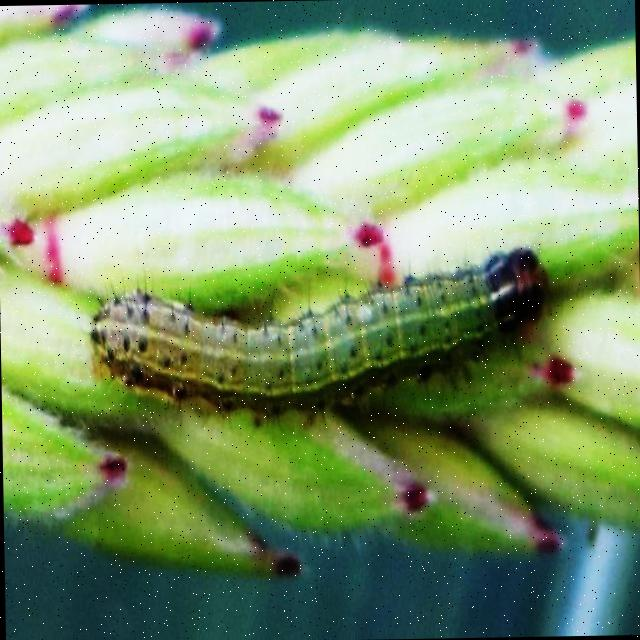worm: (86, 243, 553, 419)
